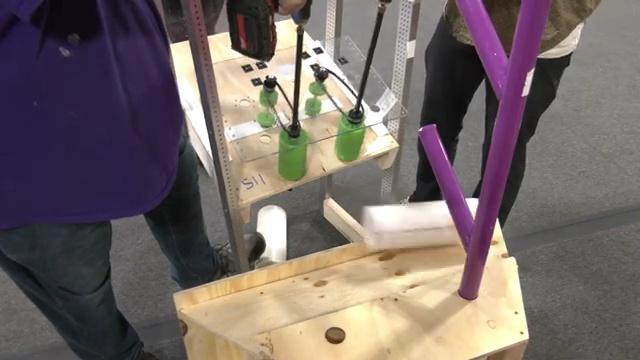CORAL: (363, 198, 479, 250), (257, 206, 287, 269)
